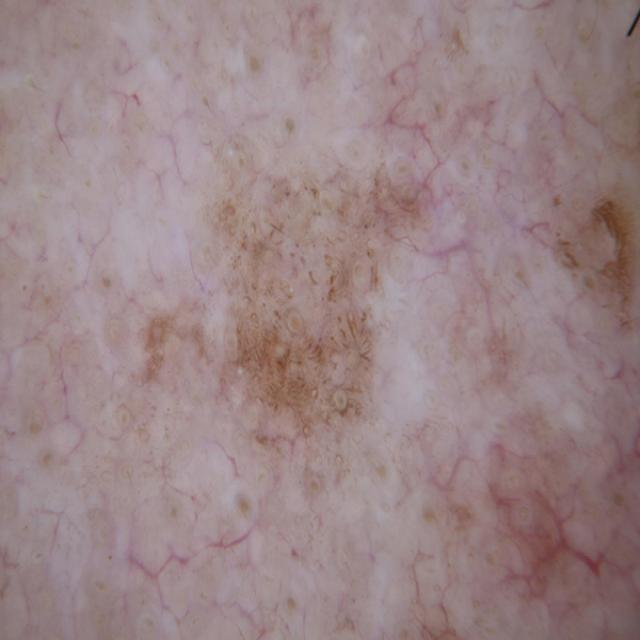Skin-Cancer Pigmented benign keratosis: (41, 18, 632, 640)
